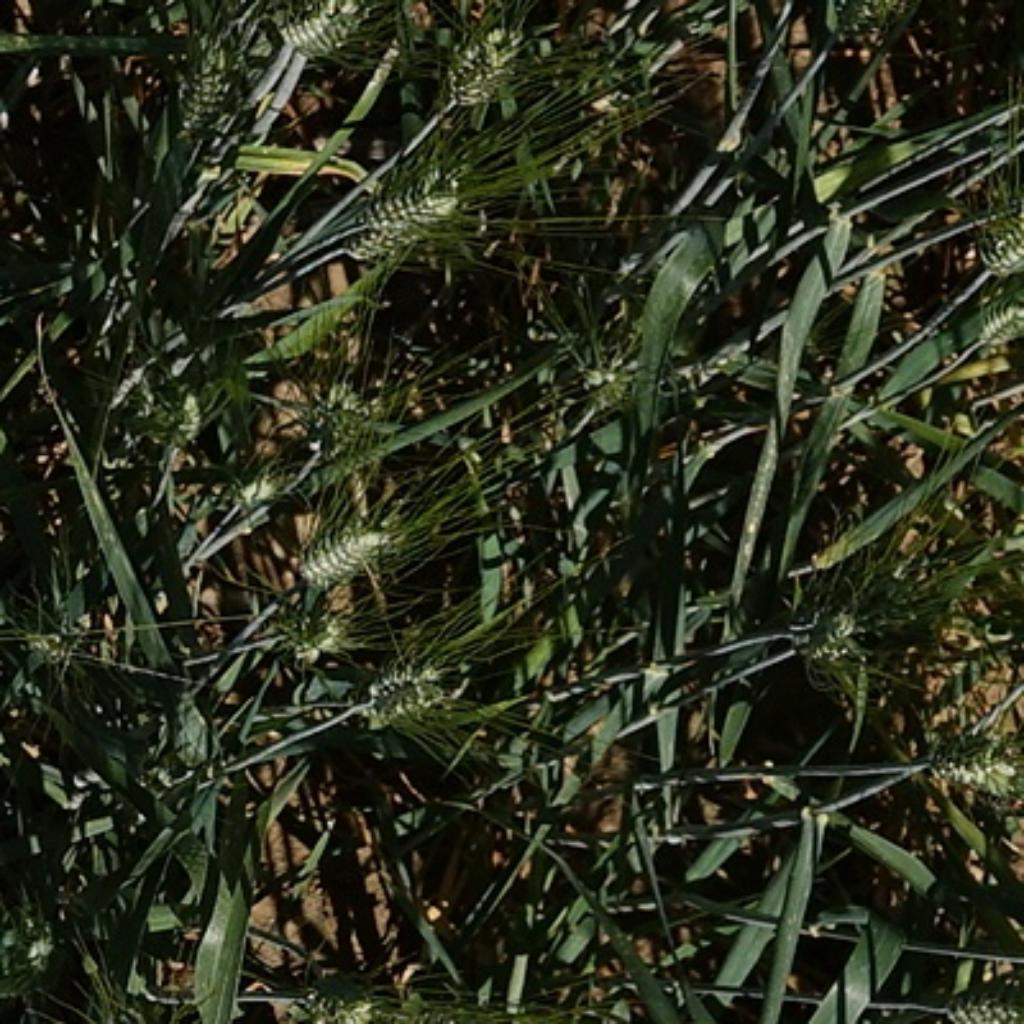0-0: (341, 151, 467, 264), (286, 499, 419, 588), (169, 27, 252, 147), (361, 645, 460, 729), (256, 581, 350, 657), (441, 29, 532, 107), (4, 890, 73, 987), (554, 338, 644, 412), (790, 596, 870, 662), (295, 405, 380, 462), (214, 458, 290, 521), (158, 371, 215, 455), (279, 981, 389, 1024), (935, 747, 1017, 804), (28, 614, 99, 676), (305, 2, 376, 61), (970, 207, 1024, 276), (274, 0, 333, 54), (967, 284, 1021, 343)
